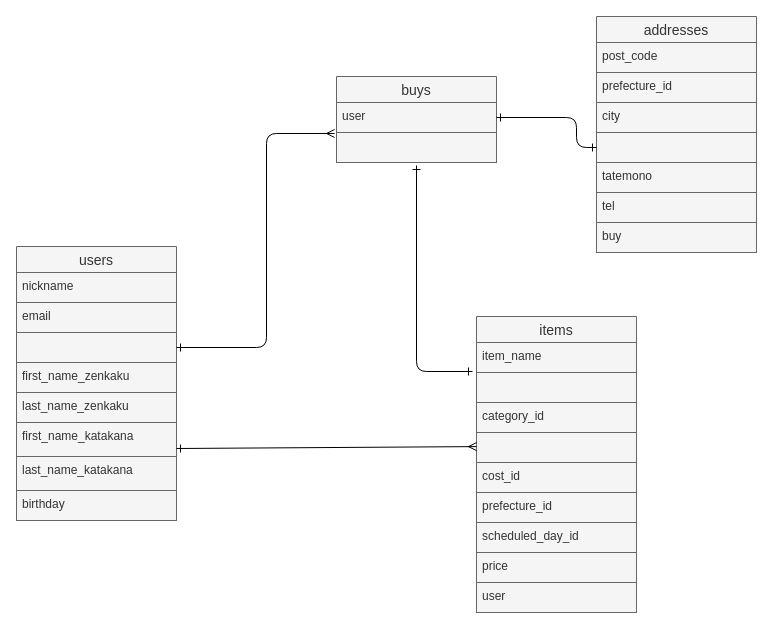
The diagram is 773 pixels wide and 629 high, and some of its shapes have lost their labels. Each missing label, with the centre of its shape:
"banti" goes at pixel 676 147.
"condition_id" goes at pixel 556 447.
"detail" goes at pixel 556 387.
"encrypted_password" goes at pixel 96 347.
"item" goes at pixel 416 147.
